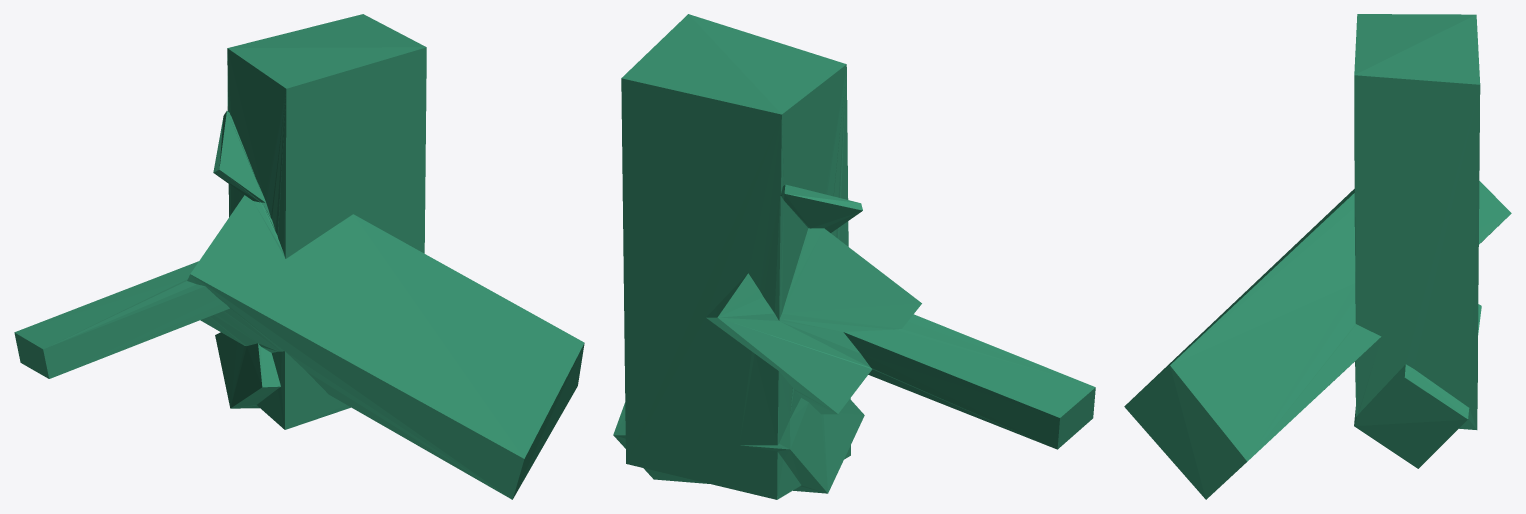
The picture shows the model from 3 angles, left to right: view 1: azimuth 30°, elevation 25°; view 2: azimuth 150°, elevation 25°; view 3: azimuth 270°, elevation 25°; orthographic projection. The views are drawn at different scales.
Parts seen in each view (by area): view 1: 210_Cube.868; view 2: 210_Cube.868; view 3: 210_Cube.868.
Boxes of the visible parts, left/top/right/bottom form: 210_Cube.868: left=14, top=14, right=584, bottom=499; 210_Cube.868: left=613, top=14, right=1095, bottom=499; 210_Cube.868: left=1124, top=14, right=1511, bottom=499.
Bounding box in the file's own units: 17.17 × 14.15 × 11.9.
